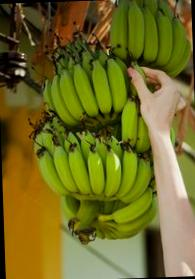Banana Unripe: (17, 0, 195, 237)
